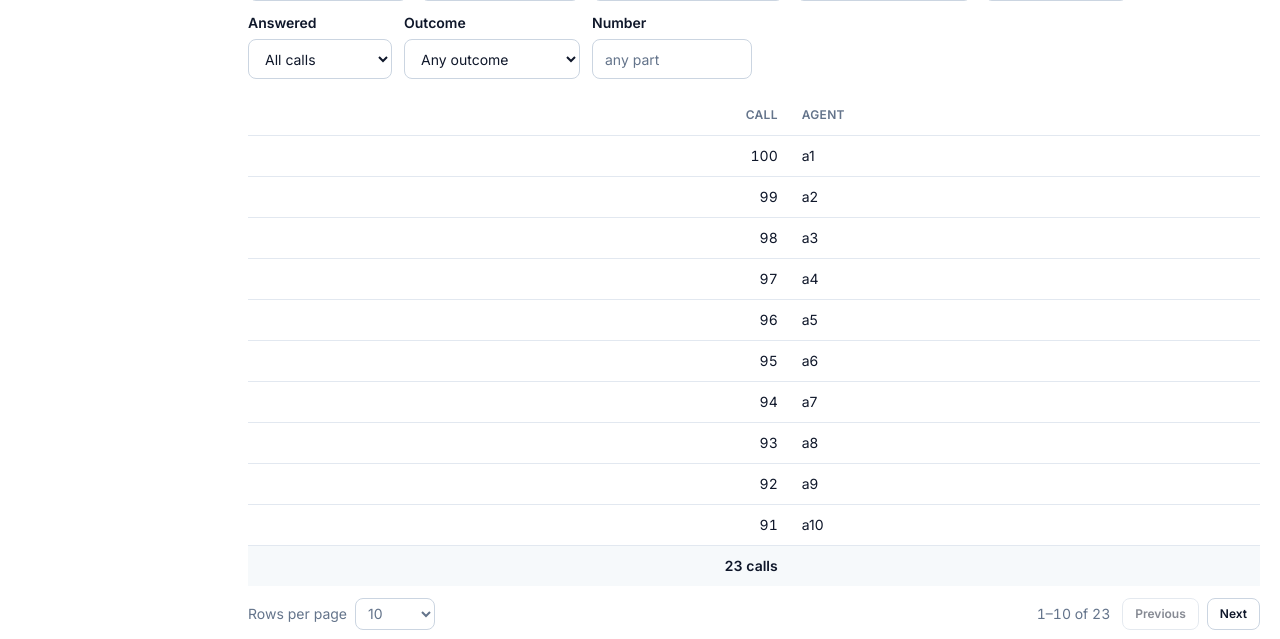
Test: Reports › 10 rows a page by default; 25 / 50 / 100 on request (remembered); totals cover all rows
(page scrolled)
Expected: the text "1–10 of 23" is shown, [1037, 604, 1110, 624]
Expected: the text "23 calls" is shown, [248, 545, 790, 586]
Click the button "Next" at (1233, 614), box [1207, 598, 1260, 630]
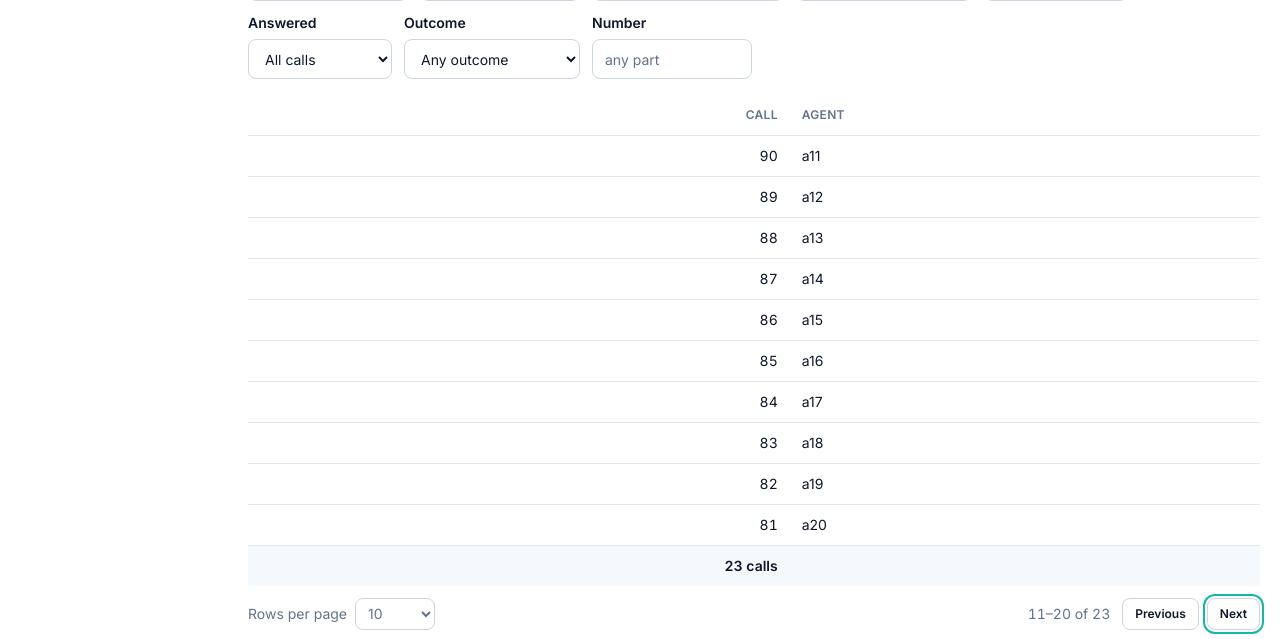
Now the text "a11" is shown, box [790, 135, 1260, 176]
Select "25" in the dropdown labelled "Rows per page" at (395, 614), box [355, 598, 435, 630]
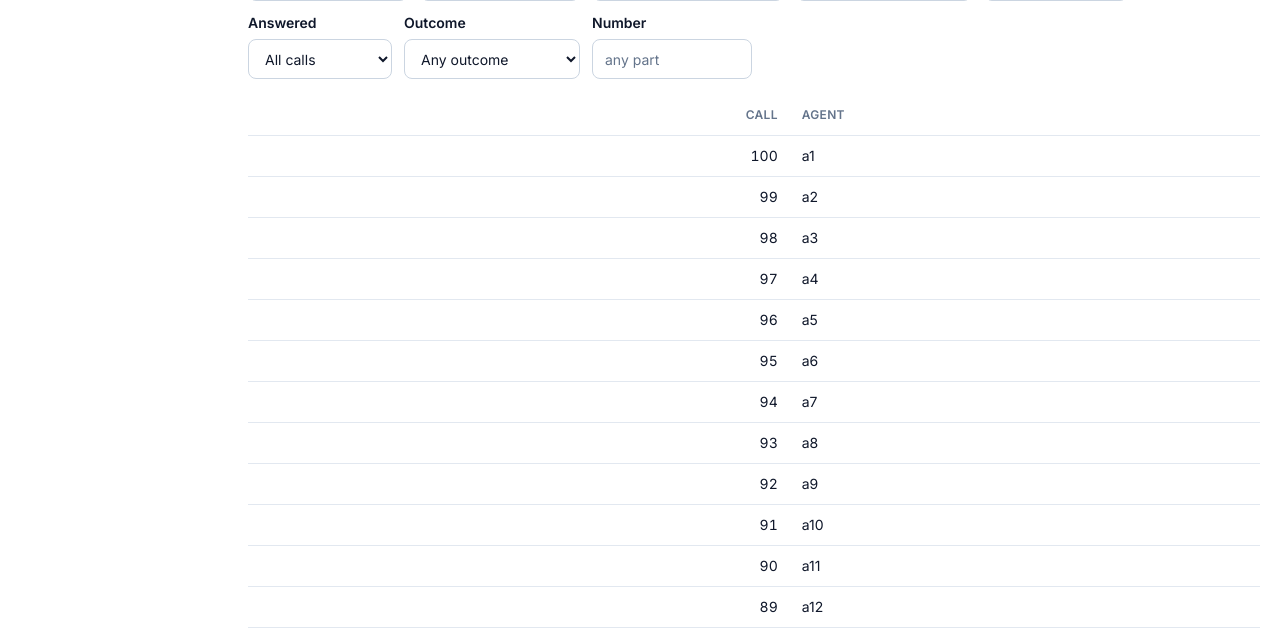
Now the number of rows is 25
Now the button "Next" is gone
